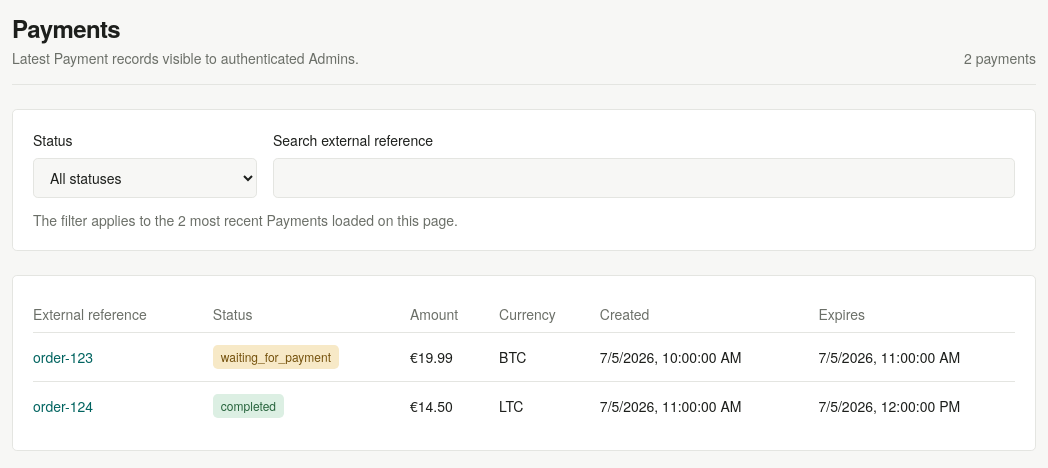
Test case: AdminPaymentsPage › narrows the list by external reference
Expected: the link "order-123" is shown, x1=33 y1=347 x2=93 y2=367
Type "order-124" into the search field labelled "Search external reference".
click(644, 178); type("order-124")  # box x1=273 y1=158 x2=1015 y2=198
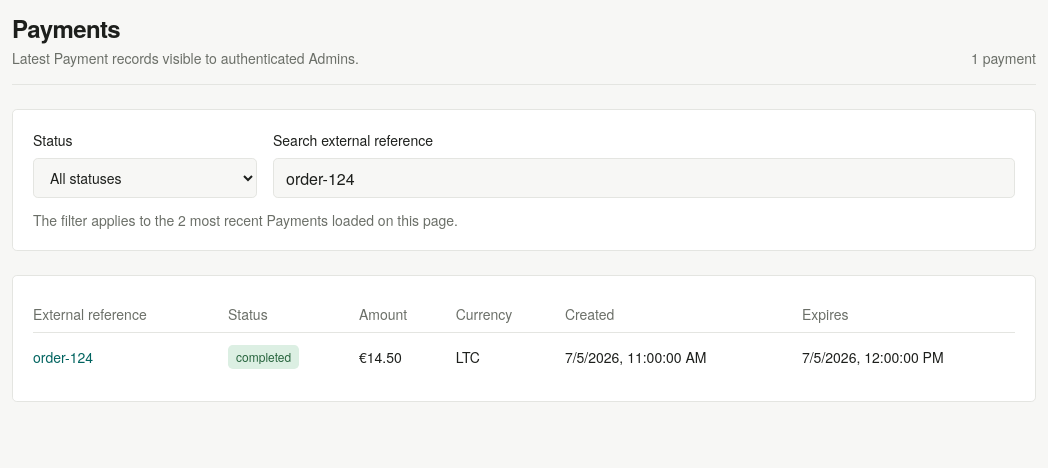
Expected: the link "order-124" is shown, x1=33 y1=347 x2=93 y2=367
Expected: the link "order-123" is gone
